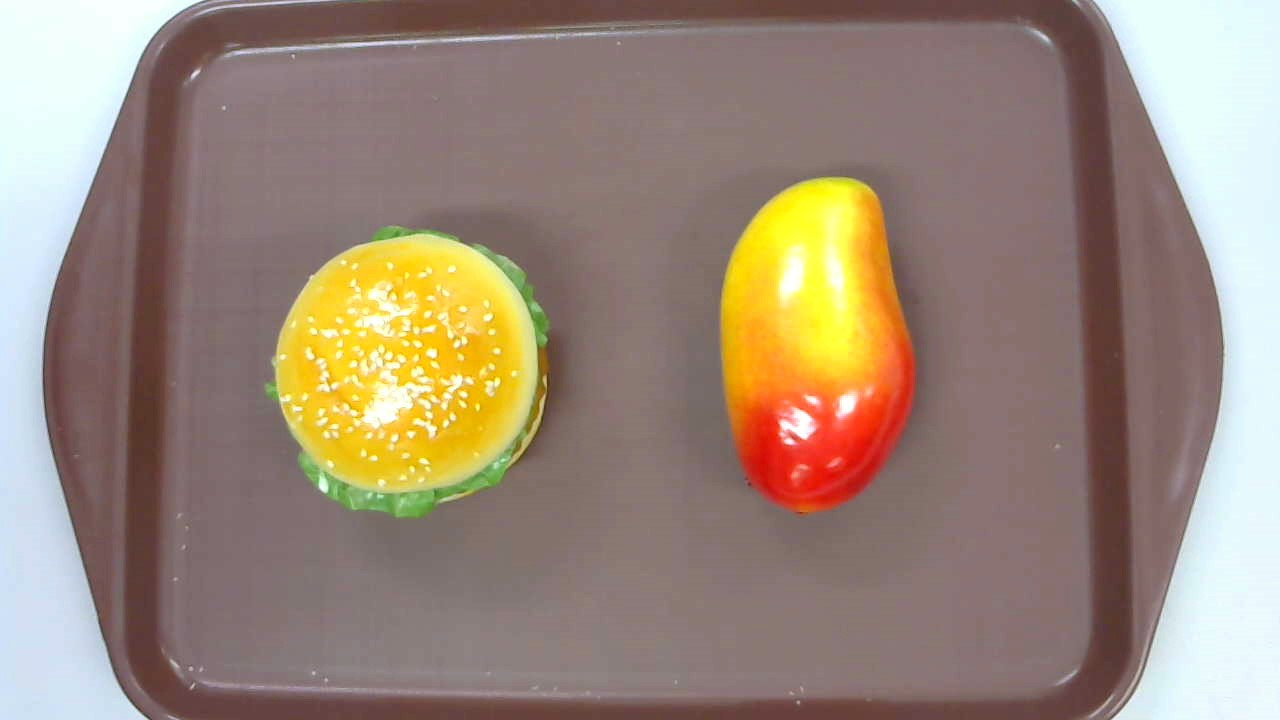hamburger: (264, 225, 552, 520)
red mango: (719, 177, 915, 518)
